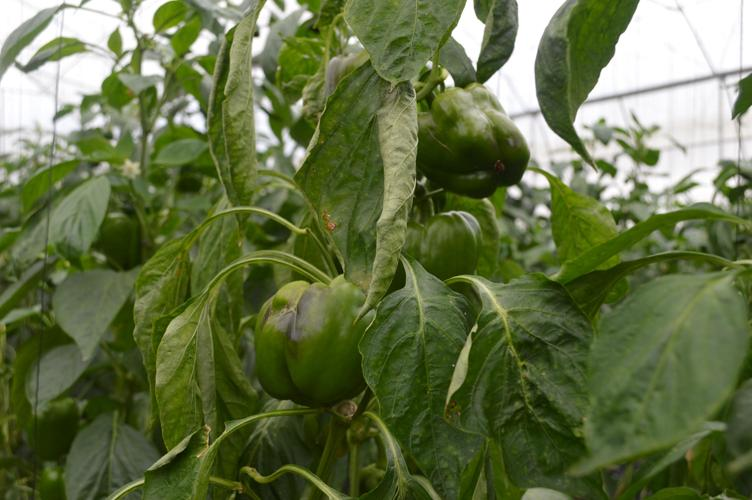BellPepper: (250, 279, 364, 404), (409, 86, 523, 196), (398, 210, 481, 292)
